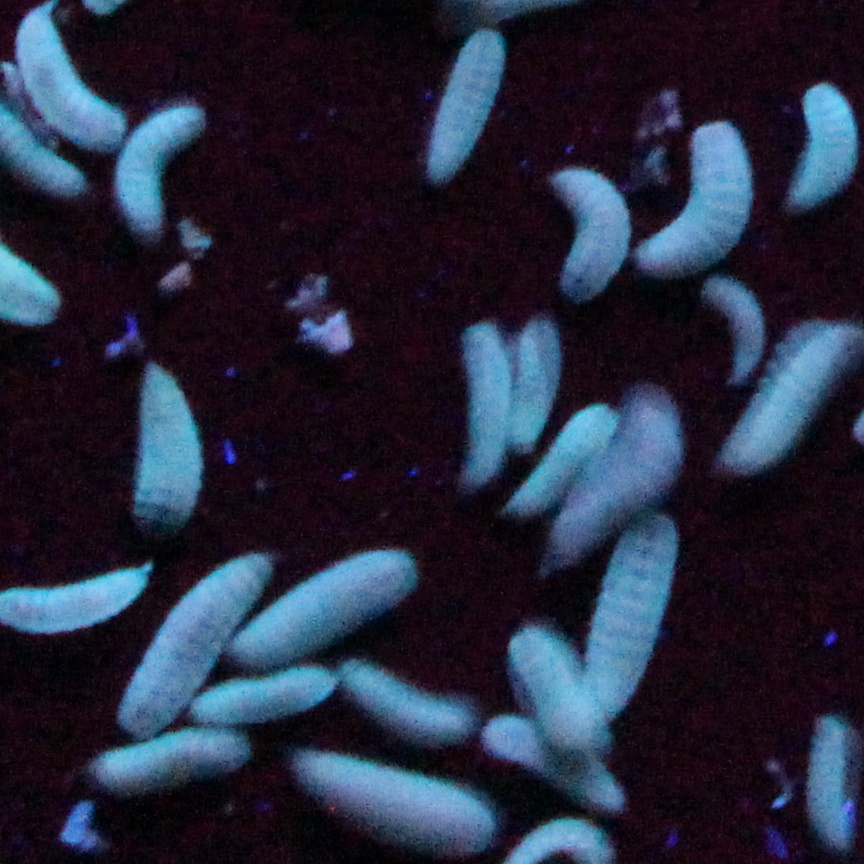larve: (119, 552, 261, 734), (292, 750, 492, 852), (239, 554, 426, 663), (586, 514, 677, 732), (646, 116, 752, 282), (746, 316, 859, 469), (12, 5, 126, 152), (132, 362, 206, 536), (559, 169, 639, 322), (430, 25, 503, 185), (119, 105, 203, 239), (494, 714, 619, 801), (346, 654, 468, 741), (508, 628, 597, 741), (466, 302, 512, 502), (519, 410, 610, 505), (94, 728, 243, 785), (810, 719, 857, 841), (712, 283, 761, 381)
